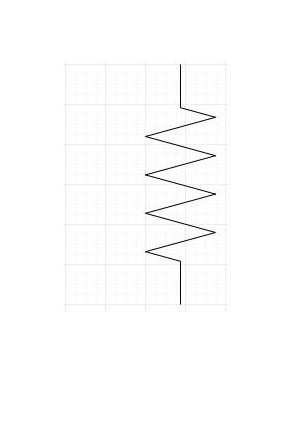resistor: (141, 79, 223, 291)
